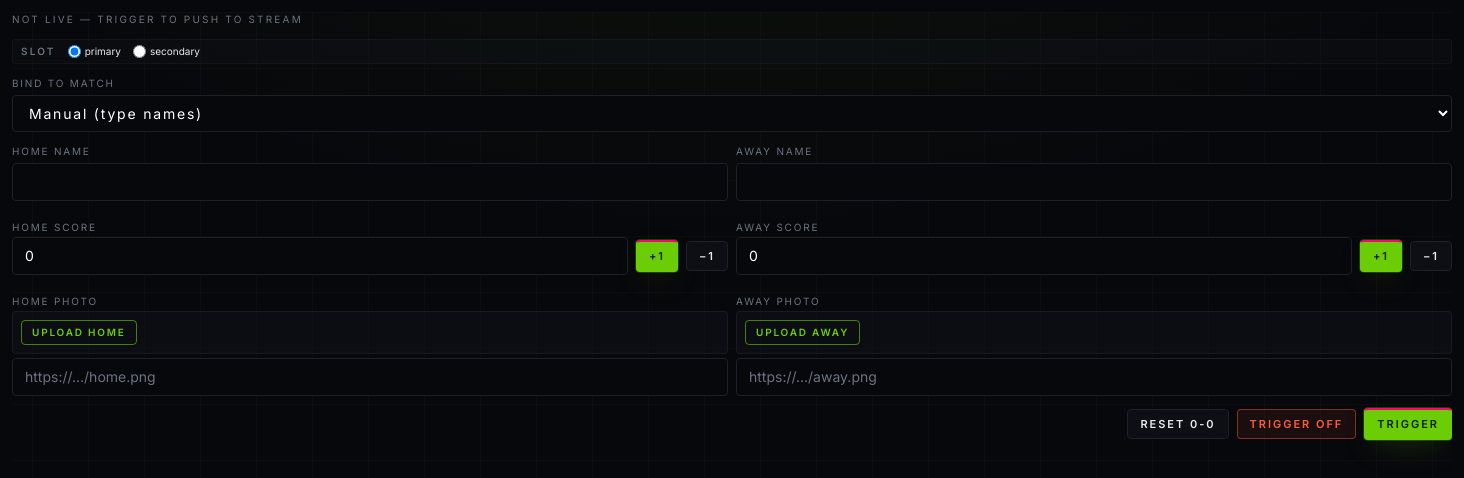
Test: StructuredScoreBugForm › autofills names when a match is selected + locks the name inputs
Select "Adefola vs Faruk · 18:00" in the dropdown with test id "score-bug-match-select" at (732, 114), box [12,95,1452,132]
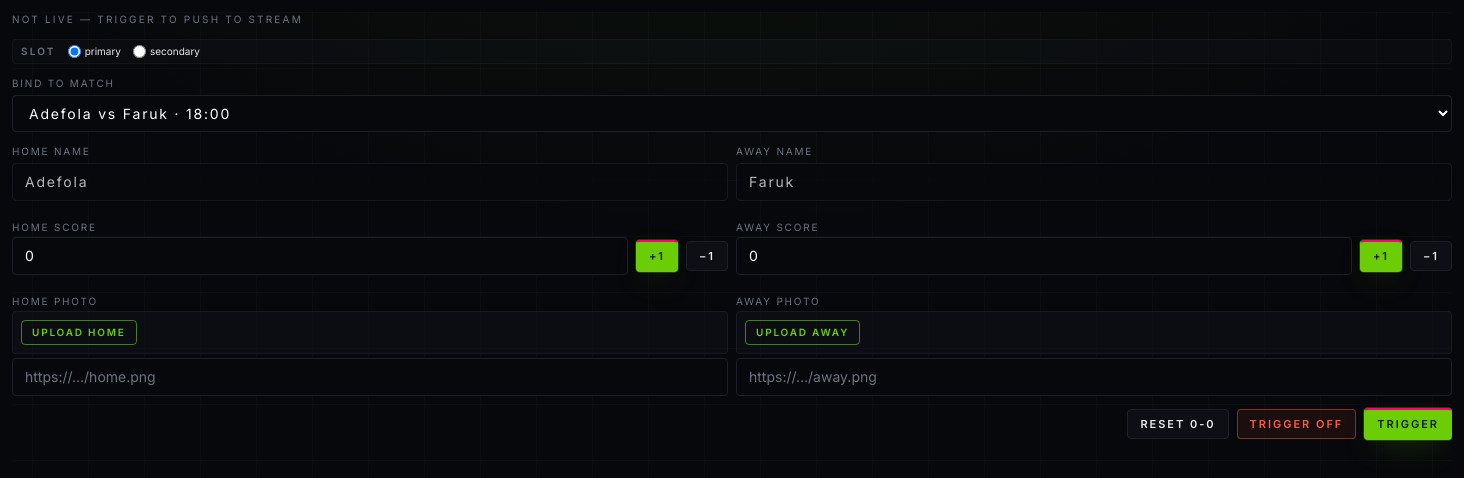
expect the field with test id "score-bug-home-name" holds "Adefola": met, box [12,163,728,201]
